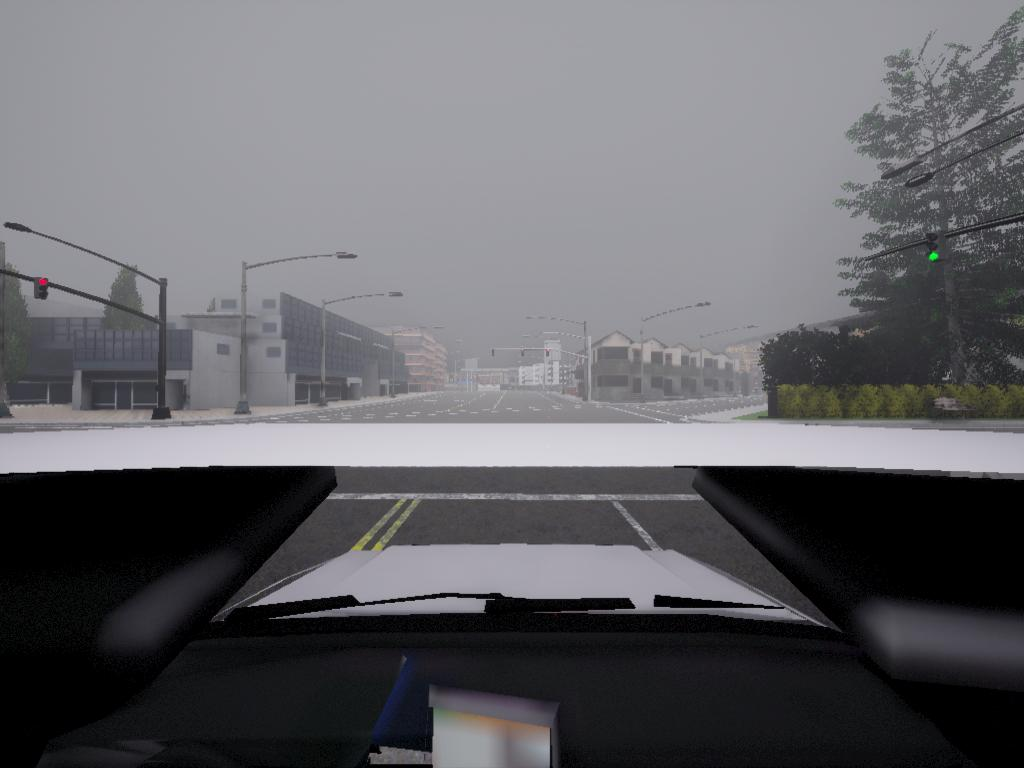traffic_light: (36, 277, 50, 301), (928, 244, 943, 264), (544, 349, 553, 360), (493, 349, 496, 359), (522, 350, 525, 358)
